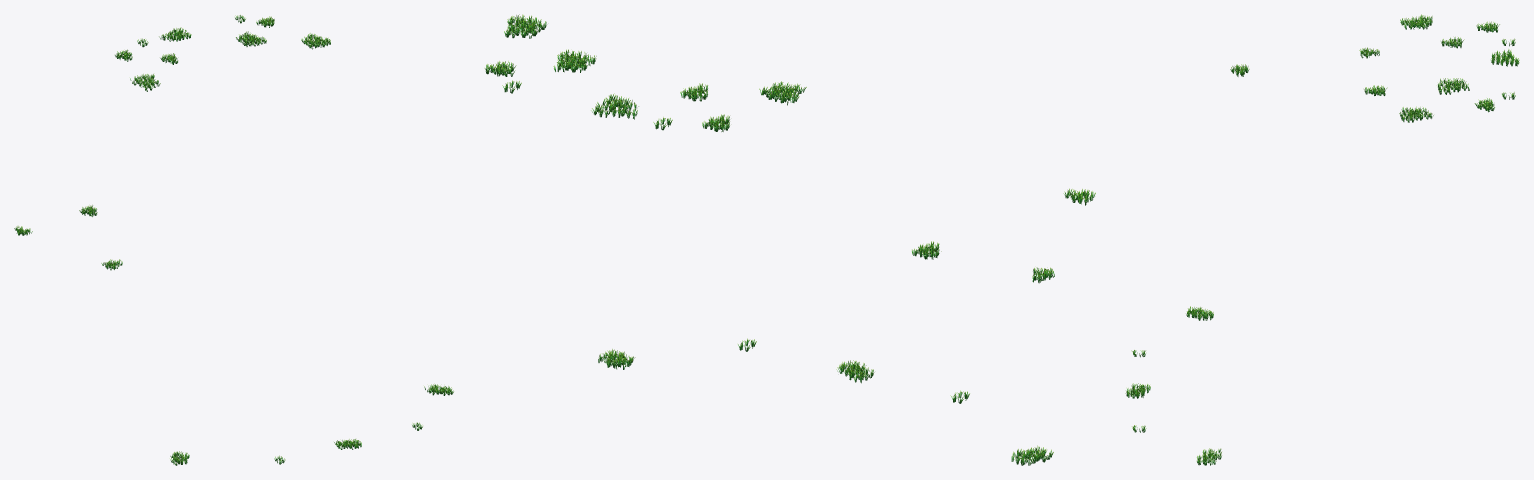
Rendered from Pasto Escenario 1.fbx.
The picture shows the model from 3 angles, left to right: view 1: azimuth 30°, elevation 25°; view 2: azimuth 150°, elevation 25°; view 3: azimuth 270°, elevation 25°; orthographic projection. The views are drawn at different scales.
Visible parts, largest first — view 1: PE1; view 2: PE1; view 3: PE1.
Boxes of the visible parts, <box> form: PE1: <box>14,15,453,465</box>; PE1: <box>484,14,1095,465</box>; PE1: <box>1125,14,1519,465</box>.
Bounding box in the file's own units: 3957 × 3092 × 3312.
1 material, 1 textured.
